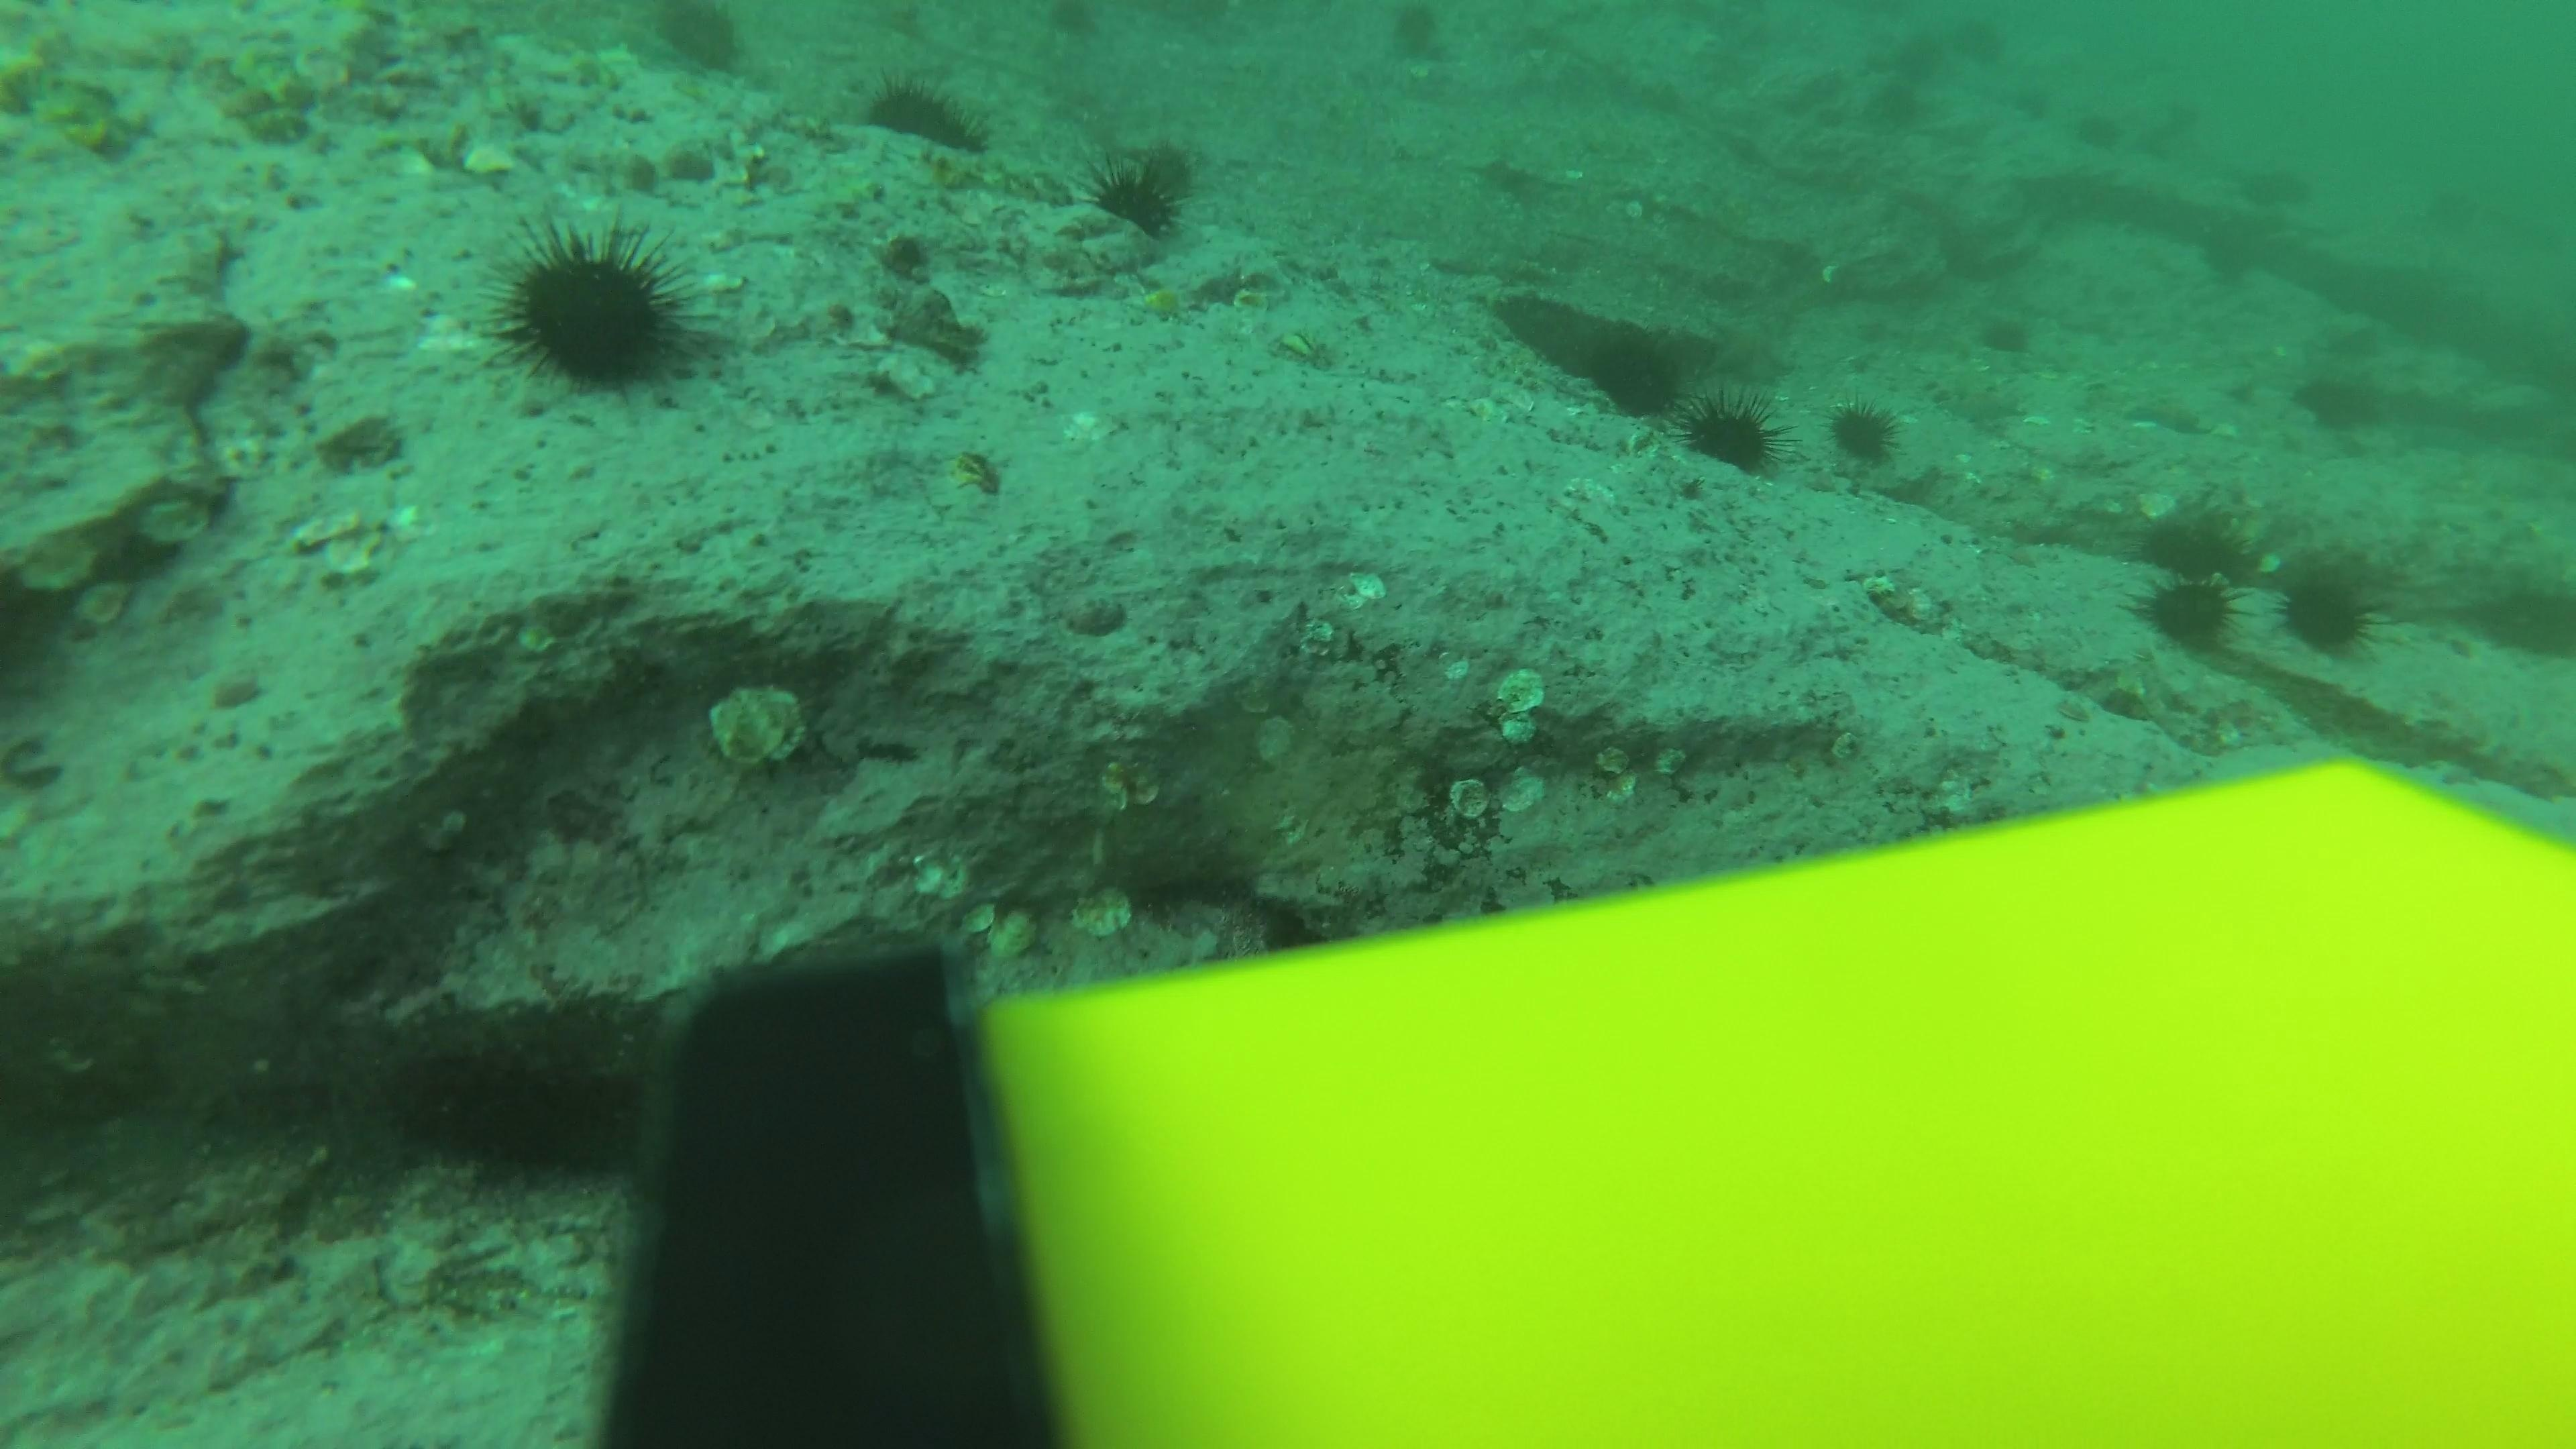echinus: (380, 1014, 648, 1185), (485, 214, 711, 402), (2130, 497, 2259, 612), (1081, 138, 1201, 244), (2270, 554, 2387, 662), (2132, 552, 2249, 658), (856, 69, 991, 161), (1571, 320, 1691, 423), (1677, 387, 1785, 479), (644, 2, 752, 81), (2289, 361, 2387, 437), (1822, 395, 1909, 474), (1967, 303, 2036, 364), (2065, 103, 2134, 165), (1870, 78, 1939, 140), (2192, 230, 2259, 292), (1964, 25, 2031, 87), (1879, 28, 1948, 88)
starfish: (1925, 366, 2029, 433), (2120, 389, 2215, 441)
